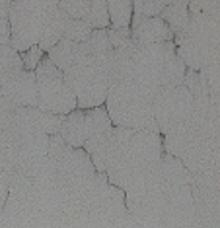fissura: (49, 96, 155, 221), (9, 30, 84, 95), (89, 3, 197, 41)
